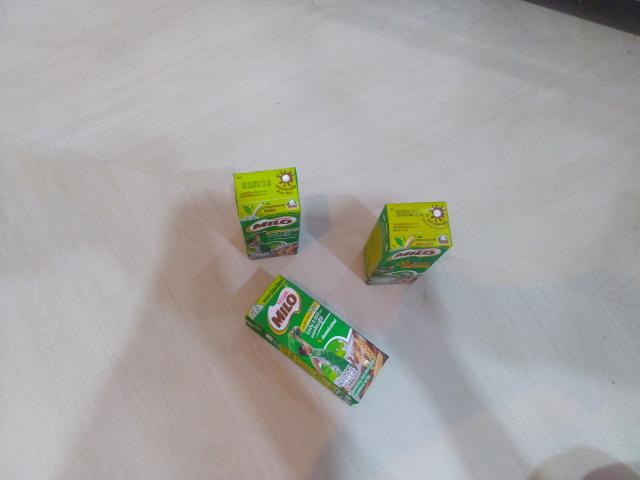drink_box: (232, 263, 405, 423), (359, 193, 467, 308), (228, 162, 325, 273)
